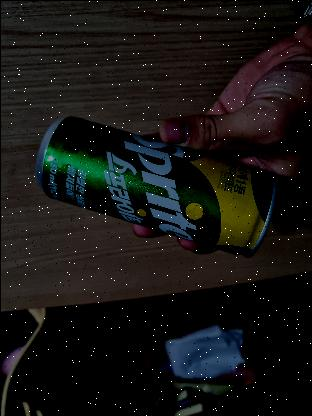Can: (38, 118, 272, 250)
